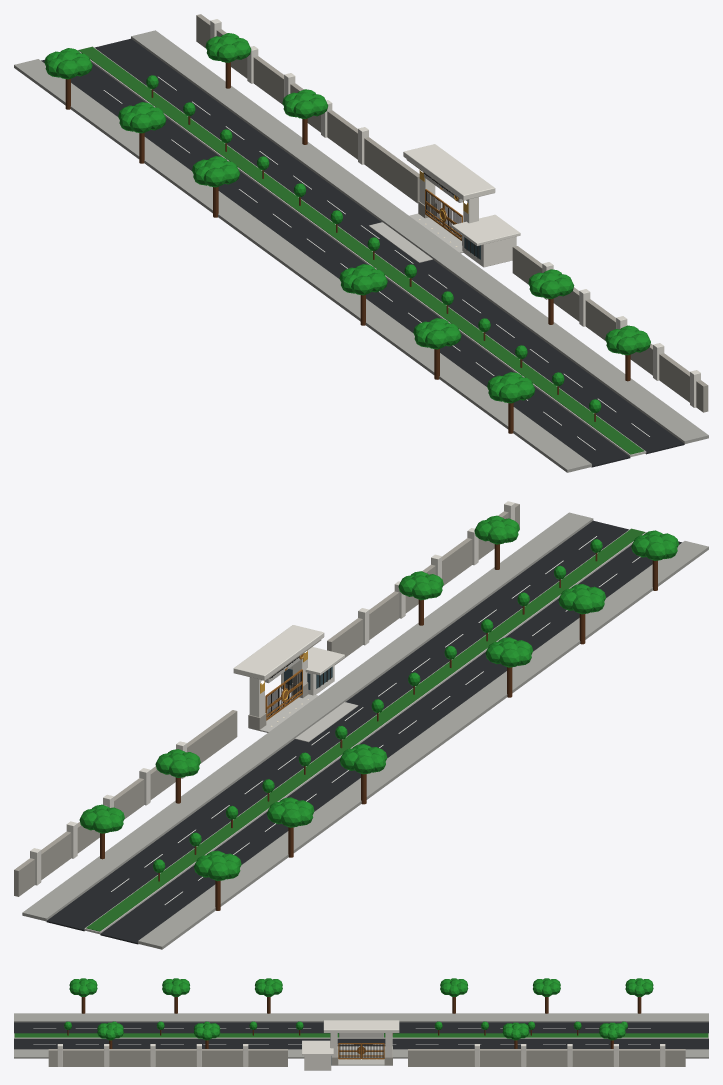
File: main_road.fbx
3 views of the same model, one above another, from view 1: azimuth 30°, elevation 25°; view 2: azimuth 150°, elevation 25°; view 3: azimuth 270°, elevation 25° (orthographic). The views are drawn at different scales.
Parts seen in each view (by area): view 1: Right_Road, Right_Sidewalk, Left_Road, Left_Sidewalk, Median_Grass, Upper_Boundary_Wall, Lower_Boundary_Wall, Main_Canopy, Median_Base, Entrance_Driveway, Guardhouse_Roof, Guardhouse_Main; view 2: Right_Road, Right_Sidewalk, Left_Road, Left_Sidewalk, Median_Grass, Upper_Boundary_Wall, Lower_Boundary_Wall, Main_Canopy, Median_Base, Entrance_Driveway, Guardhouse_Roof; view 3: Left_Sidewalk, Right_Road, Left_Road, Upper_Boundary_Wall, Lower_Boundary_Wall, Median_Grass, Median_Base, Right_Sidewalk, Main_Canopy, Entrance_Driveway, Guardhouse_Roof, Guardhouse_Main (+2 smaller).
Part boxes in pixels (x1,y1,x2,y2): Right_Road: (94, 38, 684, 454); Right_Sidewalk: (131, 30, 708, 443); Left_Road: (41, 59, 630, 467); Left_Sidewalk: (14, 59, 591, 472); Median_Grass: (78, 46, 644, 454); Upper_Boundary_Wall: (196, 14, 419, 203); Lower_Boundary_Wall: (512, 246, 708, 412); Main_Canopy: (403, 144, 495, 200); Median_Base: (77, 46, 646, 457); Entrance_Driveway: (369, 213, 463, 262); Guardhouse_Roof: (452, 214, 520, 245); Guardhouse_Main: (462, 235, 516, 267); Right_Road: (46, 520, 628, 931); Right_Sidewalk: (22, 512, 593, 921); Left_Road: (100, 541, 681, 944); Left_Sidewalk: (138, 541, 708, 949); Median_Grass: (86, 528, 645, 931); Upper_Boundary_Wall: (14, 710, 237, 896); Lower_Boundary_Wall: (327, 503, 519, 665); Main_Canopy: (233, 625, 324, 680); Median_Base: (84, 528, 646, 934); Entrance_Driveway: (248, 694, 358, 742); Guardhouse_Roof: (290, 647, 344, 675); Left_Sidewalk: (14, 1013, 708, 1022); Right_Road: (14, 1039, 708, 1049); Left_Road: (14, 1022, 708, 1033); Upper_Boundary_Wall: (408, 1049, 685, 1066); Lower_Boundary_Wall: (48, 1049, 287, 1066); Median_Grass: (14, 1033, 708, 1037); Median_Base: (14, 1033, 708, 1038); Right_Sidewalk: (14, 1049, 708, 1058); Main_Canopy: (323, 1020, 399, 1032); Entrance_Driveway: (337, 1046, 392, 1065); Guardhouse_Roof: (302, 1040, 333, 1055); Guardhouse_Main: (304, 1055, 331, 1070).
Size of the model in its own units: 3842 by 1125 by 18000.
